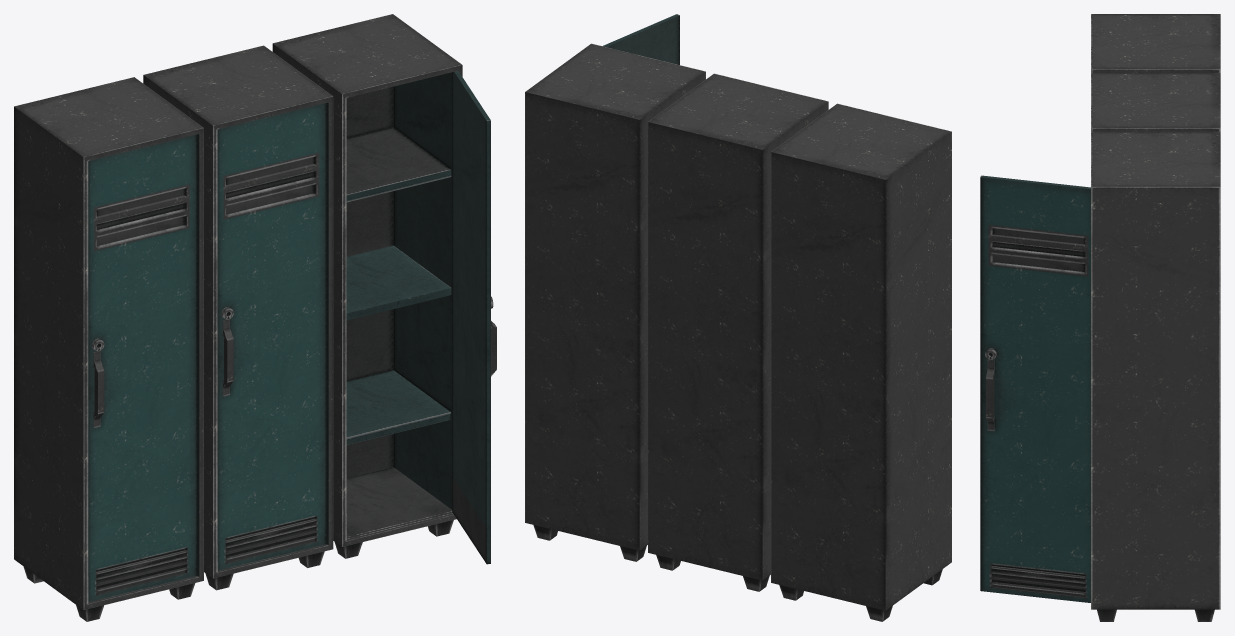
3 renders of one model, left to right at view 1: azimuth 30°, elevation 25°; view 2: azimuth 150°, elevation 25°; view 3: azimuth 270°, elevation 25°, orthographic. The views are drawn at different scales.
Parts seen in each view (by area): view 1: Cubo_2, Cubo_4, Cubo, Cubo_5, Cubo_3, Cubo_1; view 2: Cubo_5, Cubo_3, Cubo_2, Cubo_1; view 3: Cubo_2, Cubo_1, Cubo_5, Cubo_3.
Boxes of the visible parts, left/top/right/bottom form: Cubo_2: left=272, top=14, right=462, bottom=558; Cubo_4: left=88, top=134, right=197, bottom=602; Cubo: left=217, top=103, right=326, bottom=570; Cubo_5: left=14, top=77, right=203, bottom=621; Cubo_3: left=143, top=45, right=333, bottom=590; Cubo_1: left=452, top=71, right=496, bottom=564; Cubo_5: left=771, top=103, right=951, bottom=621; Cubo_3: left=648, top=73, right=828, bottom=591; Cubo_2: left=525, top=43, right=705, bottom=561; Cubo_1: left=602, top=14, right=679, bottom=64; Cubo_2: left=1091, top=131, right=1220, bottom=621; Cubo_1: left=980, top=175, right=1090, bottom=602; Cubo_5: left=1091, top=14, right=1220, bottom=72; Cubo_3: left=1091, top=73, right=1220, bottom=131.
Bounding box in the file's own units: 6.29 × 7.46 × 3.71.
Materials: 1 (1 with a texture image).
